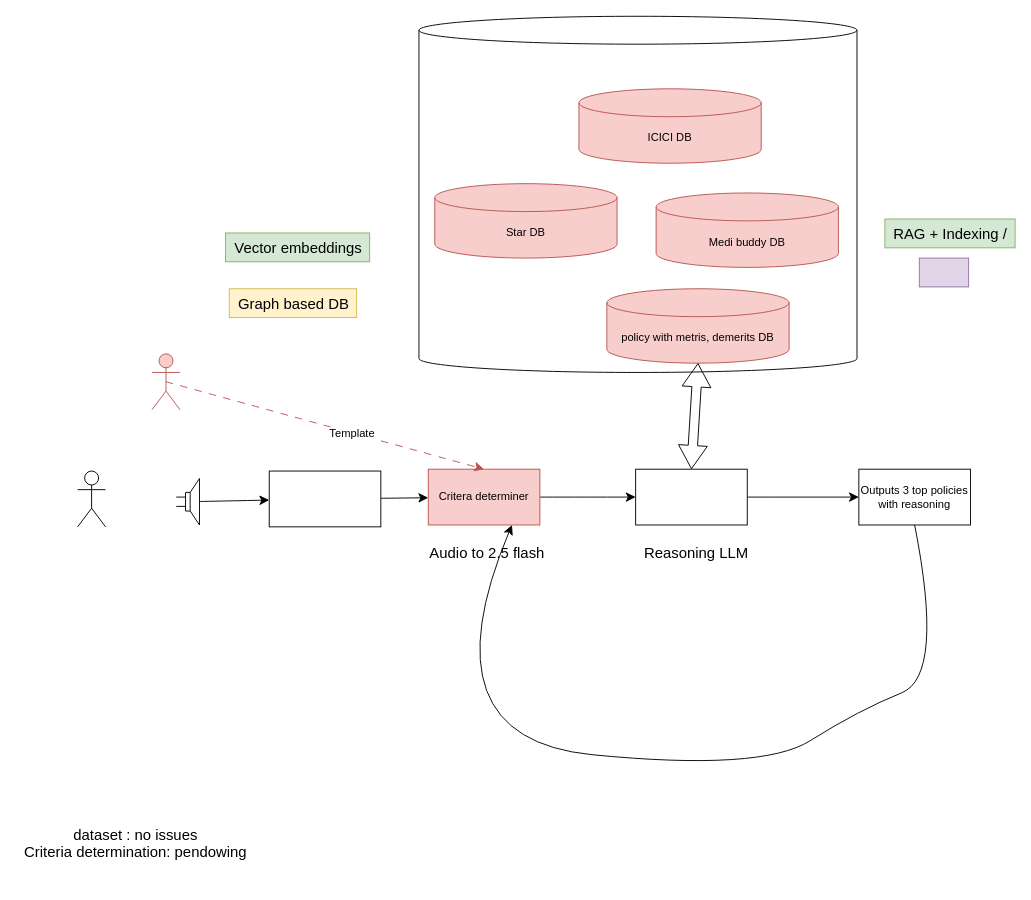
The diagram is 1031 pixels wide and 900 high, and some of its shapes have lost their labels. The shapes that lost their labels are listed below. From the top down, each one's centre as x and y in pixels, then its label:
point 943,272: CAG
point 165,381: Agent
point 91,498: Client
point 324,498: Speech to text
point 691,496: critirea received
